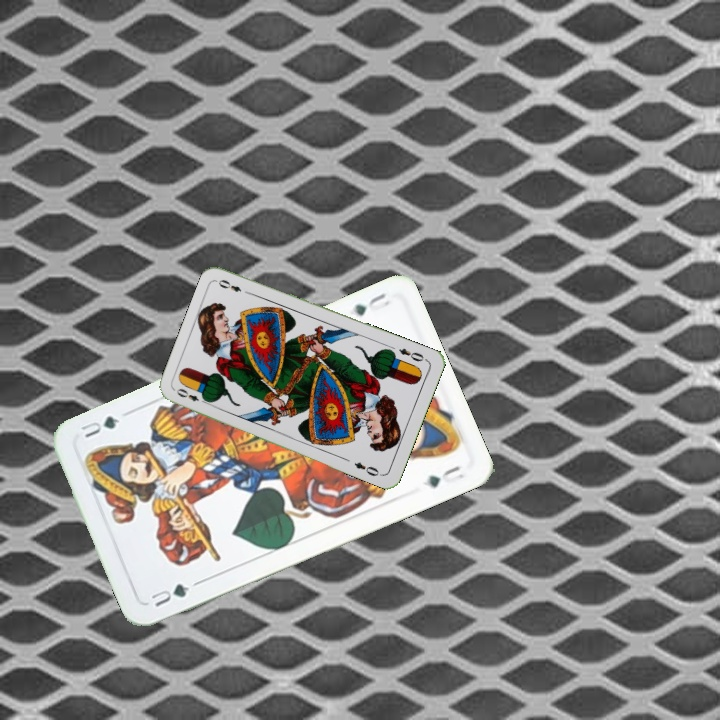EO: (172, 384, 211, 407), (395, 344, 430, 364)
GU: (147, 579, 192, 610), (350, 288, 392, 319)
